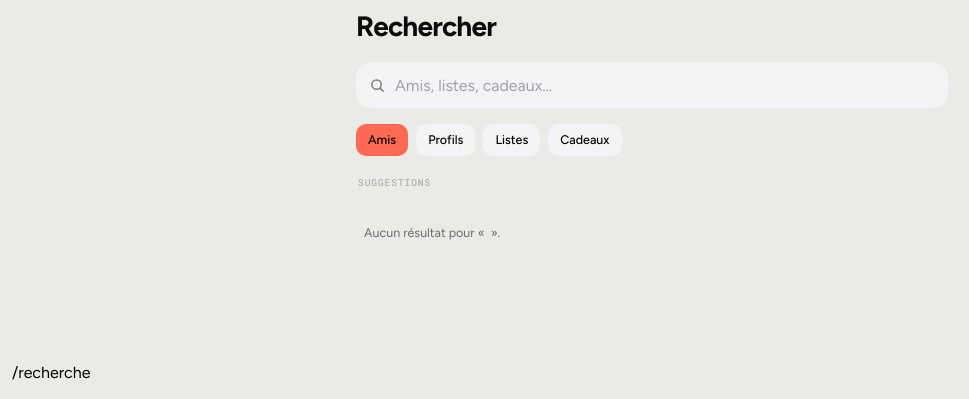
Test: puts the query in the URL
Type "Sophie" into the field named "Rechercher" at {"x": 664, "y": 85}, box [395,76,934,94]
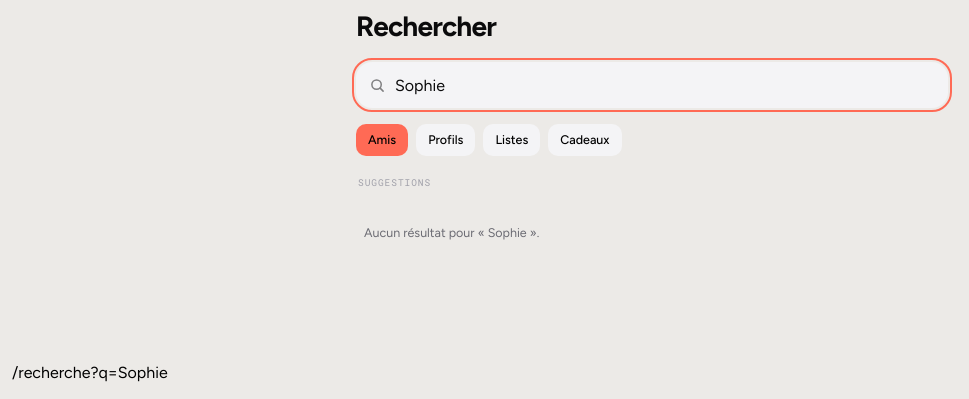
Check: the text with test id "search" shows "q=Sophie", box [90,363,168,382]
